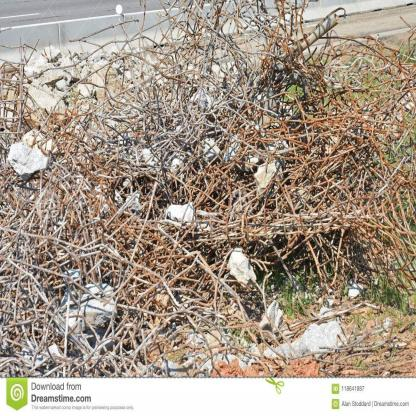rebar: (3, 0, 416, 376)
